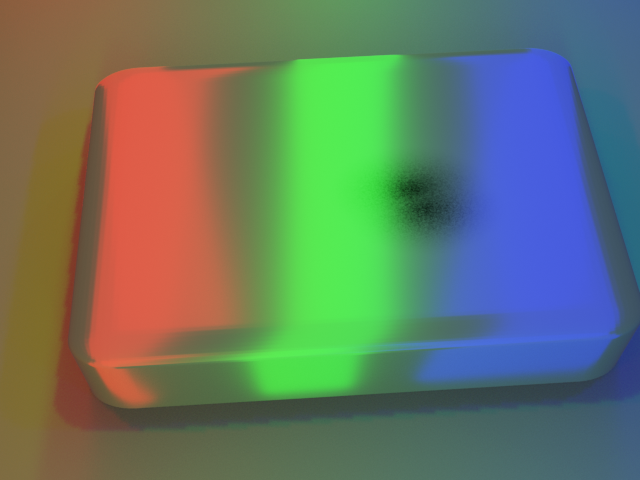stain: (299, 123, 543, 261)
